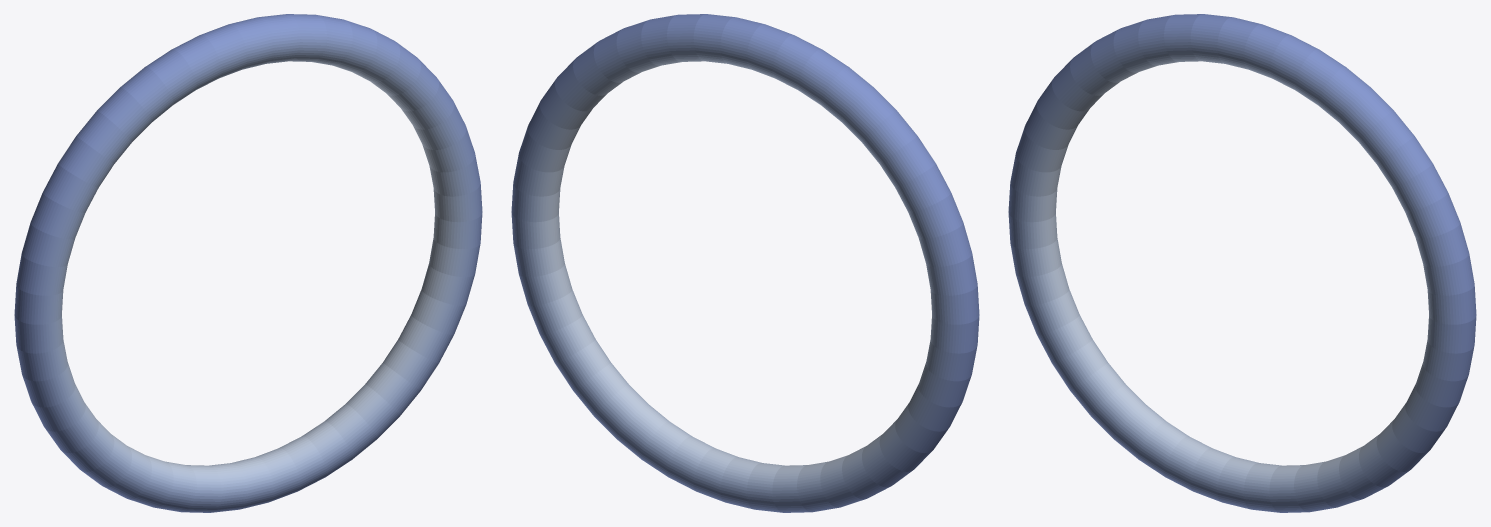
3 views of the same model, side by side, from view 1: azimuth 30°, elevation 25°; view 2: azimuth 150°, elevation 25°; view 3: azimuth 330°, elevation 25° (orthographic).
Visible parts, largest first — view 1: world; view 2: world; view 3: world.
Part boxes in pixels (x1=…): world: x1=14, y1=14, x2=482, y2=512; world: x1=511, y1=14, x2=979, y2=512; world: x1=1008, y1=14, x2=1476, y2=512.
Bounding box in the file's own units: 31.47 × 31.4 × 2.79.
